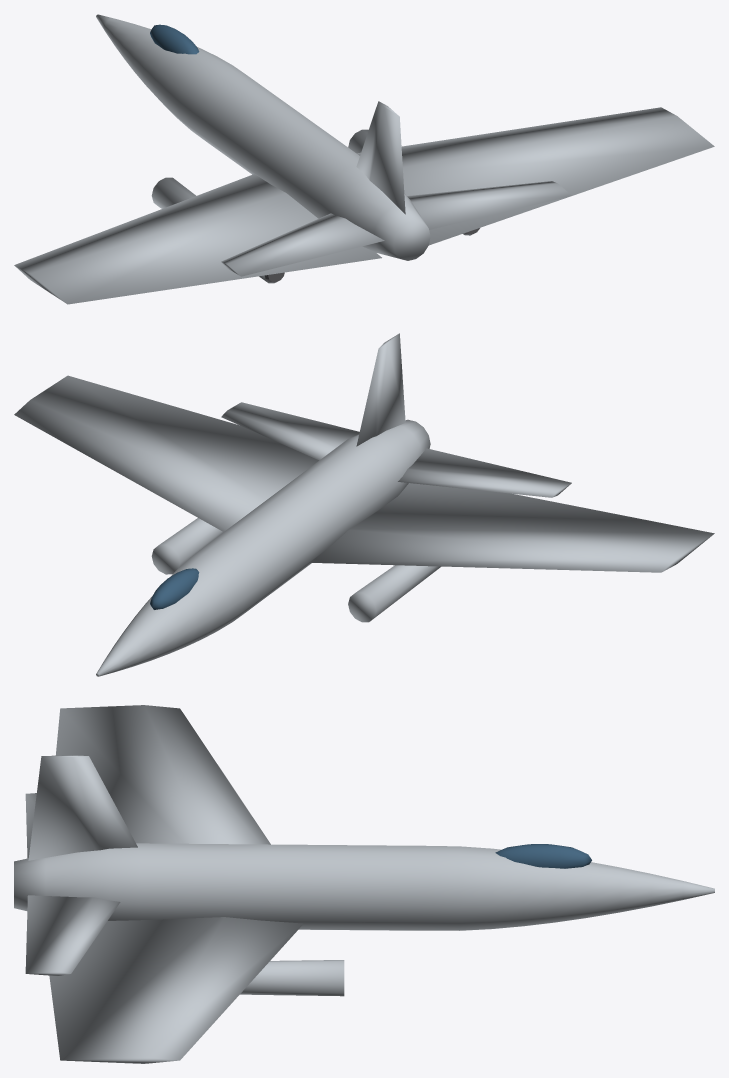
3 renders of one model, top to bottom at view 1: azimuth 30°, elevation 25°; view 2: azimuth 150°, elevation 25°; view 3: azimuth 270°, elevation 25°, orthographic. The views are drawn at different scales.
Parts seen in each view (by area): view 1: Body, Canopy; view 2: Body, Canopy; view 3: Body, Canopy.
Boxes of the visible parts, x1,y1,x2,y2 form: Body: (14, 14, 714, 304); Canopy: (150, 24, 199, 54); Body: (14, 333, 714, 676); Canopy: (150, 568, 199, 609); Body: (14, 705, 714, 1063); Canopy: (495, 844, 591, 868).
Size of the model in its own units: 1260 by 309 by 1060.
